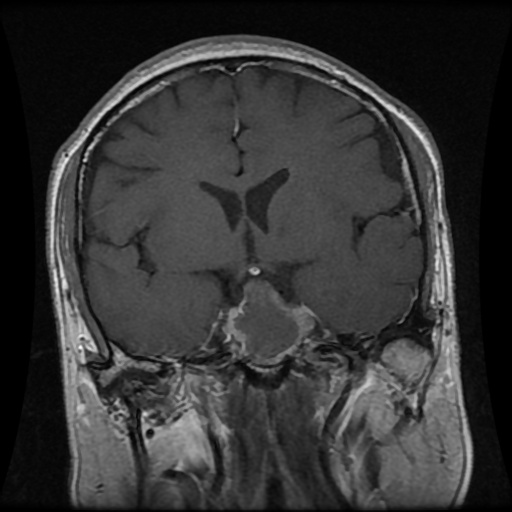pituitary: (227, 280, 316, 367)
